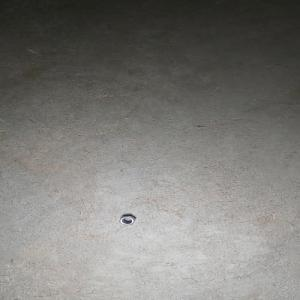Nut: (118, 215, 136, 225)
